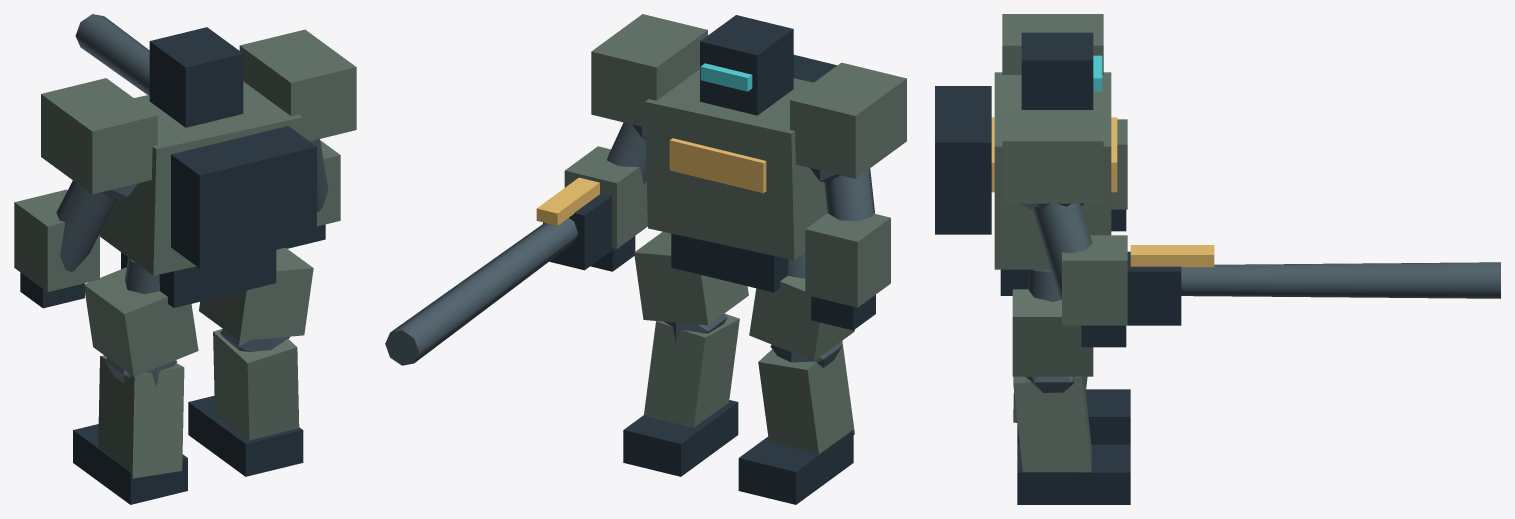
The model's file is frame-pegasus.glb.
The picture shows the model from 3 angles, left to right: view 1: azimuth 30°, elevation 25°; view 2: azimuth 150°, elevation 25°; view 3: azimuth 270°, elevation 25°; orthographic projection.
Visible parts, largest first — view 1: frame-pegasus; view 2: frame-pegasus; view 3: frame-pegasus.
Part boxes in pixels (x1=…): frame-pegasus: x1=14, y1=14, x2=356, y2=504; frame-pegasus: x1=385, y1=14, x2=906, y2=504; frame-pegasus: x1=935, y1=14, x2=1500, y2=504.
Bounding box in the file's own units: 1.12 × 1.54 × 1.9.
